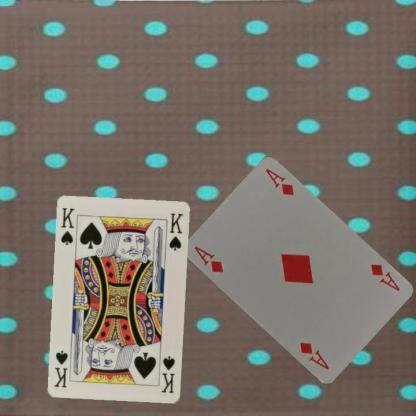Ad: (367, 262, 401, 292), (191, 244, 224, 274)
Ks: (159, 353, 177, 395), (58, 206, 76, 246)
